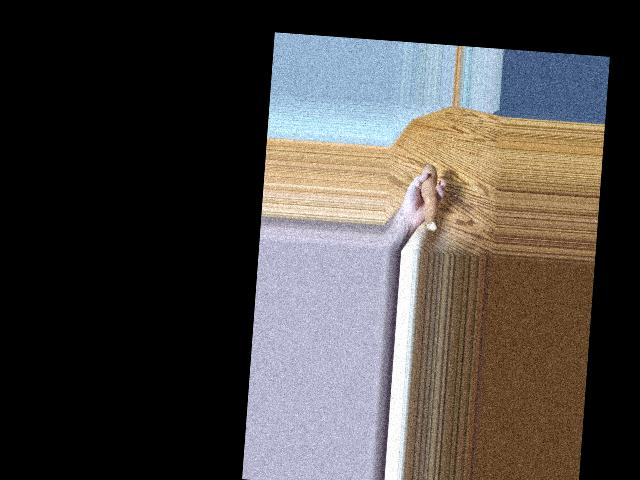sweet_potato: (416, 168, 442, 225)
